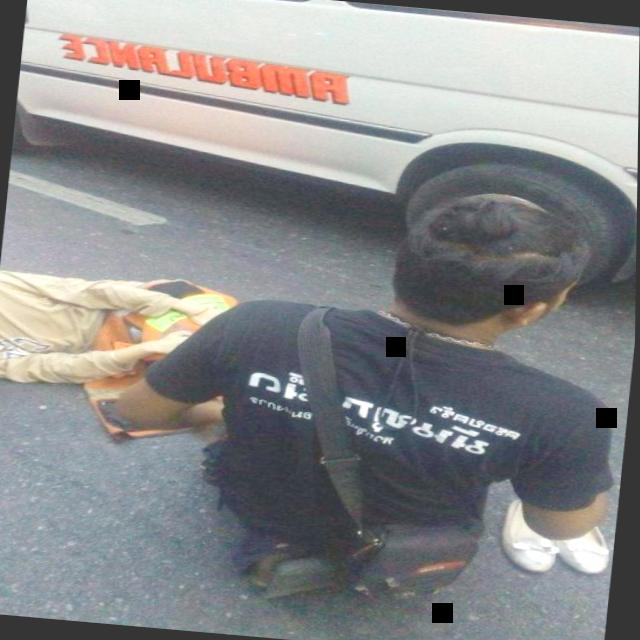Fall-Detected: (0, 243, 288, 428)
